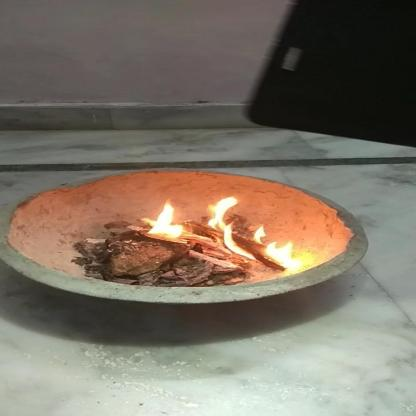fire: (145, 195, 303, 273)
